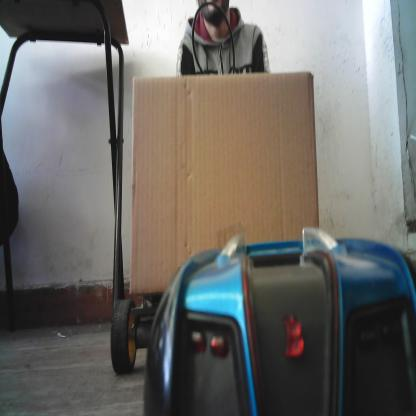LeadTruck: (111, 67, 327, 376)
